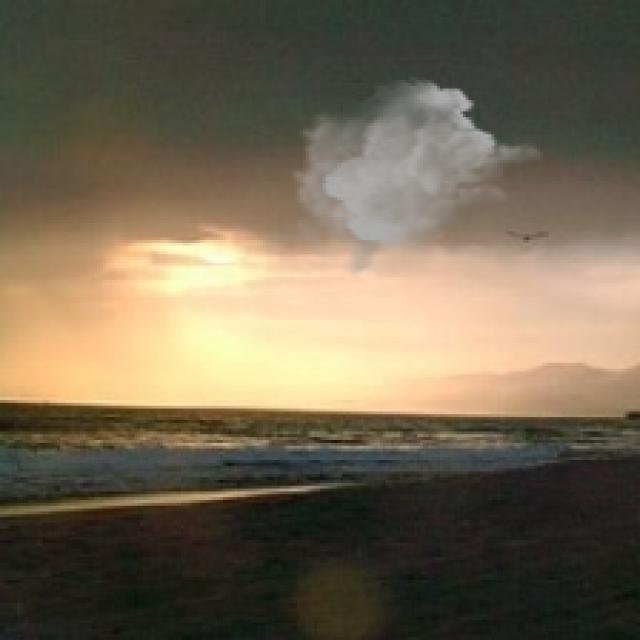Smoke: (288, 77, 546, 277)
